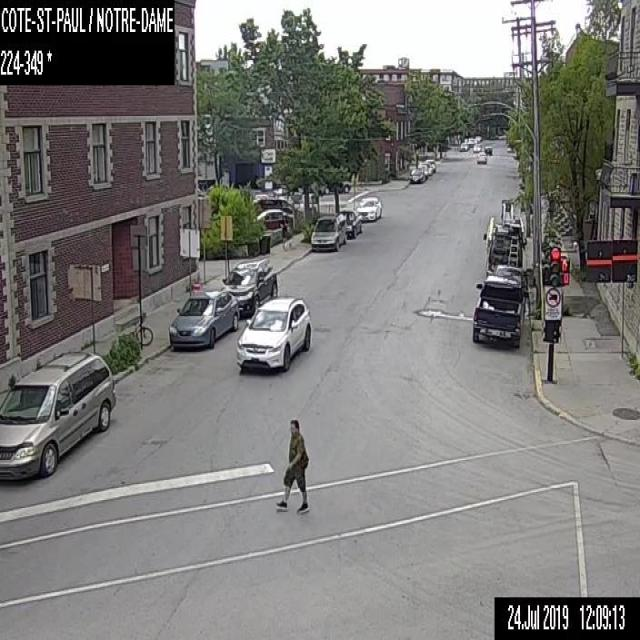pedestrian: (275, 419, 308, 512), (280, 211, 292, 251)
vehicle: (0, 349, 116, 481), (235, 296, 312, 371), (168, 288, 239, 350), (471, 275, 529, 349), (220, 257, 278, 316), (482, 198, 526, 273), (309, 212, 346, 251), (486, 264, 527, 290), (252, 197, 298, 215), (255, 208, 292, 230), (335, 209, 362, 237), (356, 196, 382, 220), (410, 166, 425, 182), (425, 158, 436, 171), (418, 164, 428, 178), (421, 162, 432, 173), (476, 150, 486, 162), (472, 142, 481, 152), (484, 144, 492, 154), (459, 142, 468, 150), (506, 143, 514, 152), (466, 137, 473, 146), (475, 135, 481, 140)
